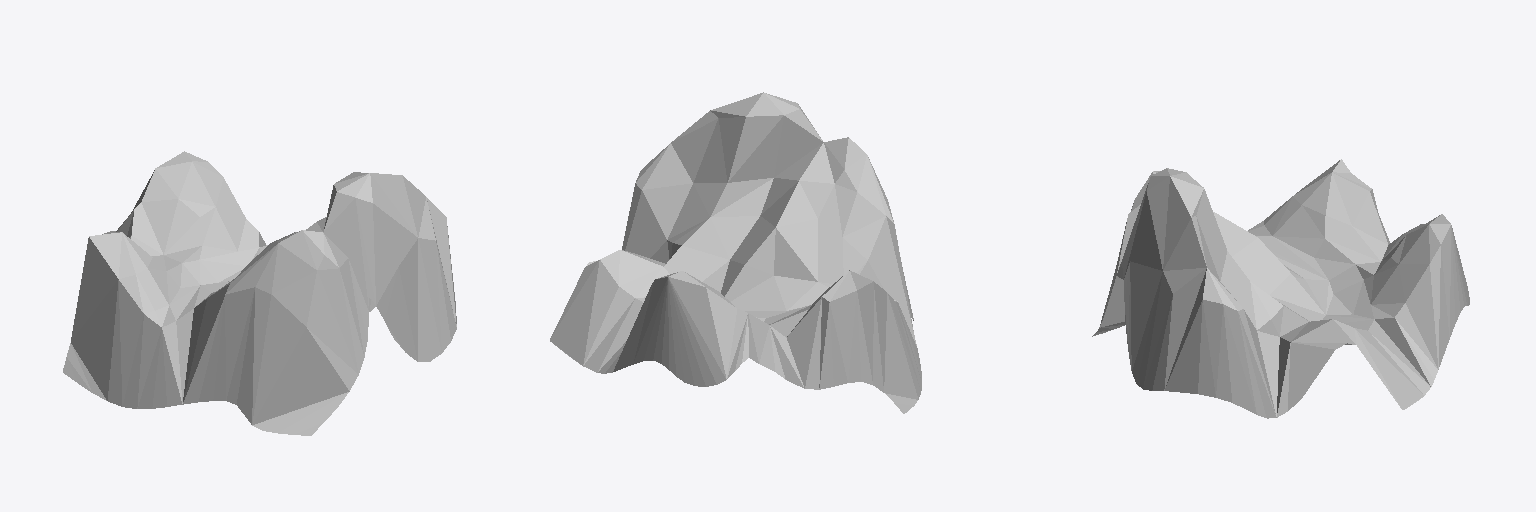
Rendered from provberg2the_reckoning.obj.
3 views of the same model, side by side, from view 1: azimuth 30°, elevation 25°; view 2: azimuth 150°, elevation 25°; view 3: azimuth 270°, elevation 25° (orthographic).
Parts seen in each view (by area): view 1: pDisc1; view 2: pDisc1; view 3: pDisc1.
Boxes of the visible parts, <box> form: pDisc1: <box>63,151,456,435</box>; pDisc1: <box>550,92,921,413</box>; pDisc1: <box>1092,159,1469,418</box>.
Bounding box in the file's own units: 1.86 × 1.18 × 1.86.